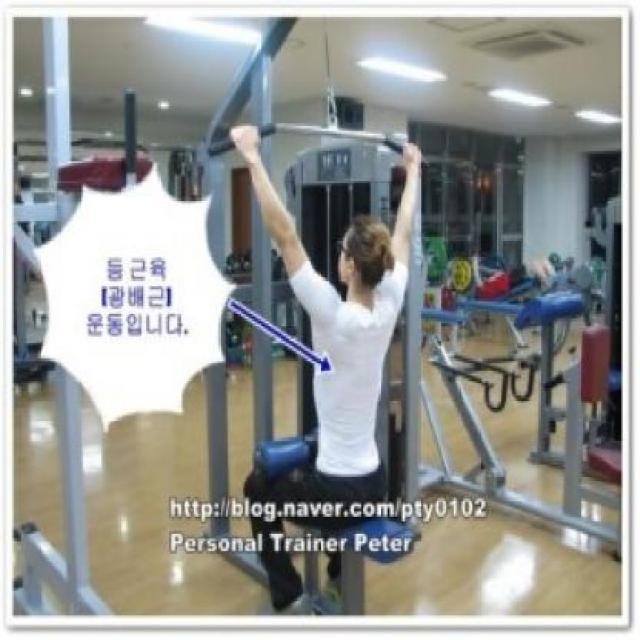Lat Pull Down: (169, 4, 463, 640)
